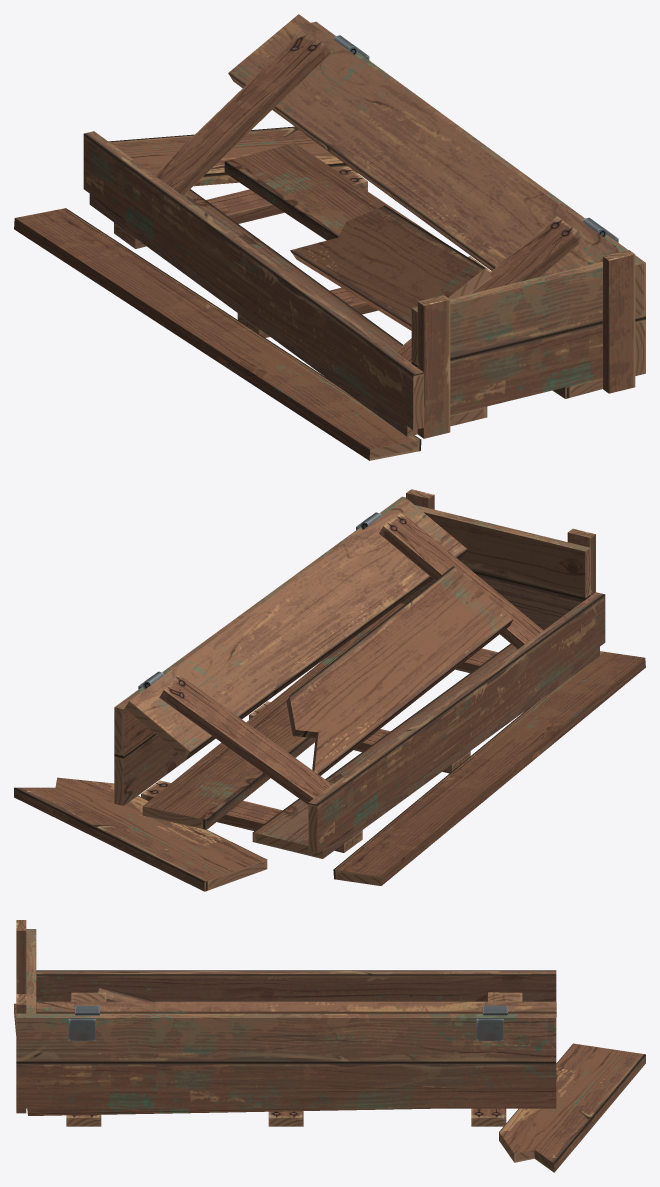
The model's file is crate03_C.fbx.
3 views of the same model, one above another, from view 1: azimuth 30°, elevation 25°; view 2: azimuth 150°, elevation 25°; view 3: azimuth 270°, elevation 25° (orthographic). The views are drawn at different scales.
Visible parts, largest first — view 1: crate03_C; view 2: crate03_C; view 3: crate03_C.
Part boxes in pixels (<box>): crate03_C: <box>14,14,645,460</box>; crate03_C: <box>14,489,645,891</box>; crate03_C: <box>14,920,645,1172</box>.
Size of the model in its own units: 79.48 by 27.39 by 126.
